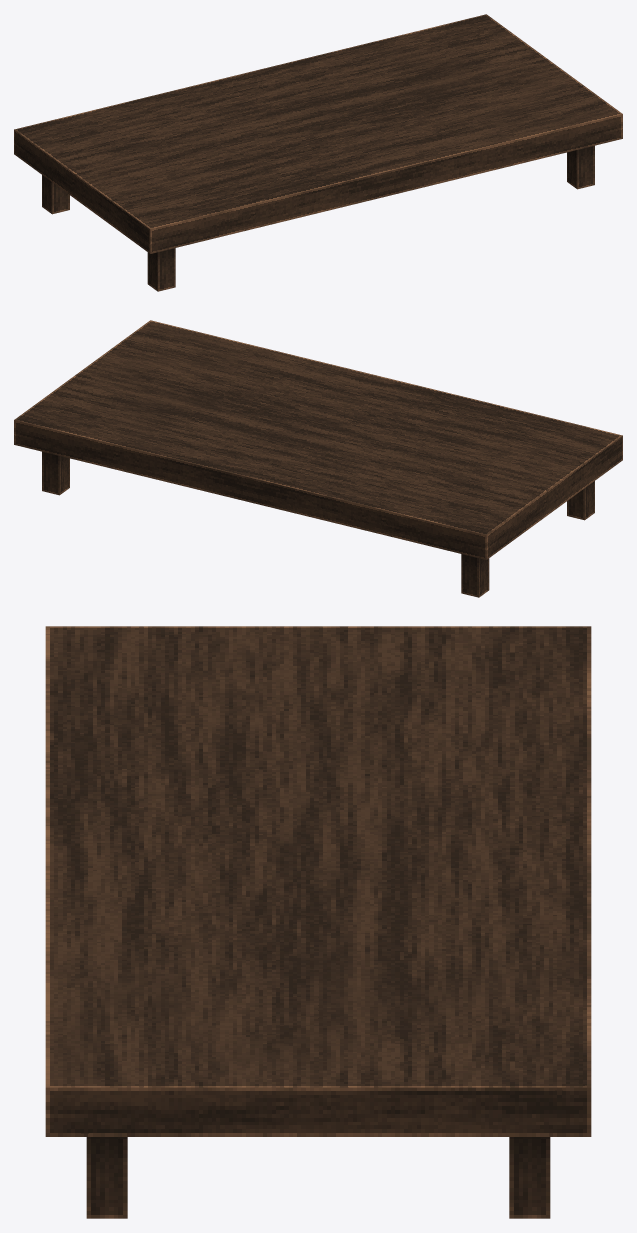
The model's file is dining_table_4x2.glb.
The picture shows the model from 3 angles, top to bottom: view 1: azimuth 30°, elevation 25°; view 2: azimuth 150°, elevation 25°; view 3: azimuth 270°, elevation 25°; orthographic projection. The views are drawn at different scales.
Parts seen in each view (by area): view 1: dining_table_4x2; view 2: dining_table_4x2; view 3: dining_table_4x2.
Boxes of the visible parts, x1,y1,x2,y2 form: dining_table_4x2: [14, 14, 622, 291]; dining_table_4x2: [14, 320, 622, 597]; dining_table_4x2: [45, 626, 591, 1218].
Size of the model in its own units: 4 by 0.6 by 2.
1 material, 1 textured.
